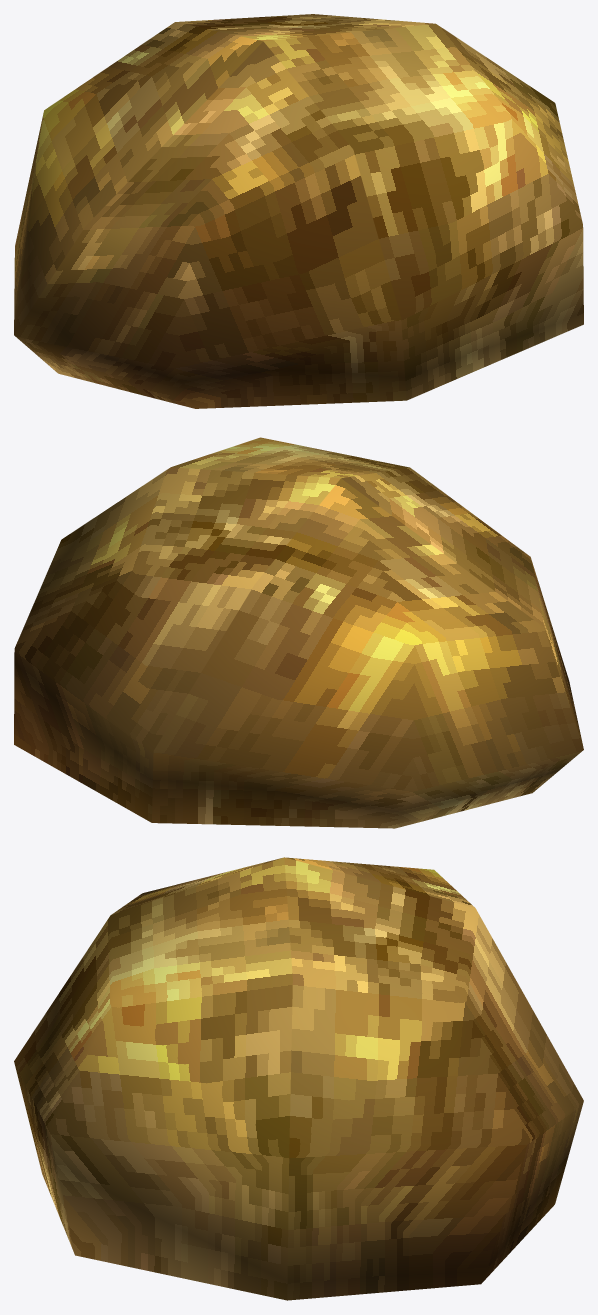
3 renders of one model, top to bottom at view 1: azimuth 30°, elevation 25°; view 2: azimuth 150°, elevation 25°; view 3: azimuth 270°, elevation 25°, orthographic. The views are drawn at different scales.
Parts seen in each view (by area): view 1: MT_01-col; view 2: MT_01-col; view 3: MT_01-col.
Boxes of the visible parts, x1,y1,x2,y2 form: MT_01-col: [14, 14, 583, 408]; MT_01-col: [14, 437, 583, 828]; MT_01-col: [14, 857, 583, 1300].
Bounding box in the file's own units: 0.3067 × 0.1519 × 0.2539.
1 material, 1 textured.
